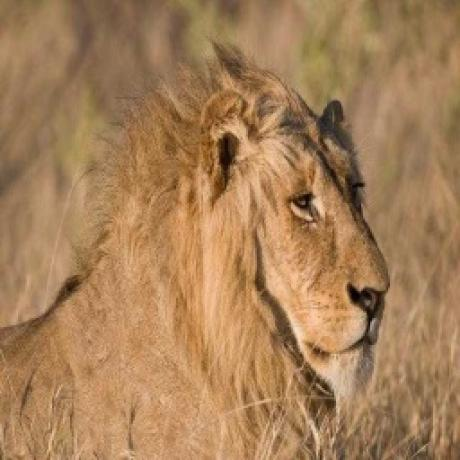Lion: (0, 44, 395, 459)
